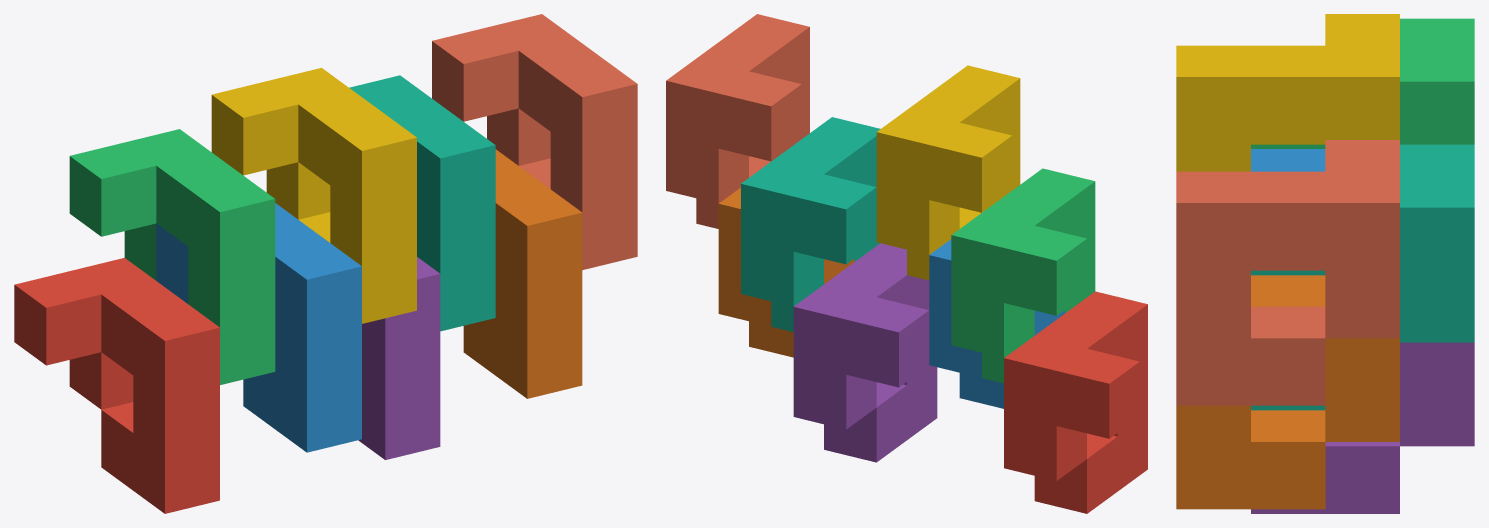
The model's file is tiling.obj.
The picture shows the model from 3 angles, left to right: view 1: azimuth 30°, elevation 25°; view 2: azimuth 150°, elevation 25°; view 3: azimuth 270°, elevation 25°; orthographic projection. The views are drawn at different scales.
Parts seen in each view (by area): view 1: copy_1_domain_1, copy_1_domain_8, copy_1_domain_4, copy_1_domain_3, copy_1_domain_2, copy_1_domain_6, copy_1_domain_7, copy_1_domain_5; view 2: copy_1_domain_1, copy_1_domain_5, copy_1_domain_4, copy_1_domain_3, copy_1_domain_8, copy_1_domain_7, copy_1_domain_6, copy_1_domain_2; view 3: copy_1_domain_8, copy_1_domain_4, copy_1_domain_6, copy_1_domain_7, copy_1_domain_5, copy_1_domain_3, copy_1_domain_2.
Part boxes in pixels (bbox=[...]): copy_1_domain_1: bbox=[14, 258, 219, 513]; copy_1_domain_8: bbox=[432, 14, 637, 269]; copy_1_domain_4: bbox=[211, 68, 416, 323]; copy_1_domain_3: bbox=[69, 129, 275, 384]; copy_1_domain_2: bbox=[156, 203, 361, 452]; copy_1_domain_6: bbox=[463, 149, 582, 398]; copy_1_domain_7: bbox=[349, 75, 495, 331]; copy_1_domain_5: bbox=[358, 257, 440, 459]; copy_1_domain_1: bbox=[1004, 291, 1147, 513]; copy_1_domain_5: bbox=[793, 243, 937, 462]; copy_1_domain_4: bbox=[876, 65, 1020, 280]; copy_1_domain_3: bbox=[951, 168, 1095, 383]; copy_1_domain_8: bbox=[666, 14, 809, 228]; copy_1_domain_7: bbox=[741, 117, 880, 331]; copy_1_domain_6: bbox=[718, 187, 854, 357]; copy_1_domain_2: bbox=[929, 239, 1064, 408]; copy_1_domain_8: bbox=[1176, 140, 1399, 405]; copy_1_domain_4: bbox=[1176, 14, 1399, 171]; copy_1_domain_6: bbox=[1176, 275, 1399, 509]; copy_1_domain_7: bbox=[1251, 144, 1474, 410]; copy_1_domain_5: bbox=[1251, 342, 1474, 513]; copy_1_domain_3: bbox=[1251, 18, 1474, 148]; copy_1_domain_2: bbox=[1251, 149, 1325, 171].
Bounding box in the file's own units: 9 × 6 × 4.
